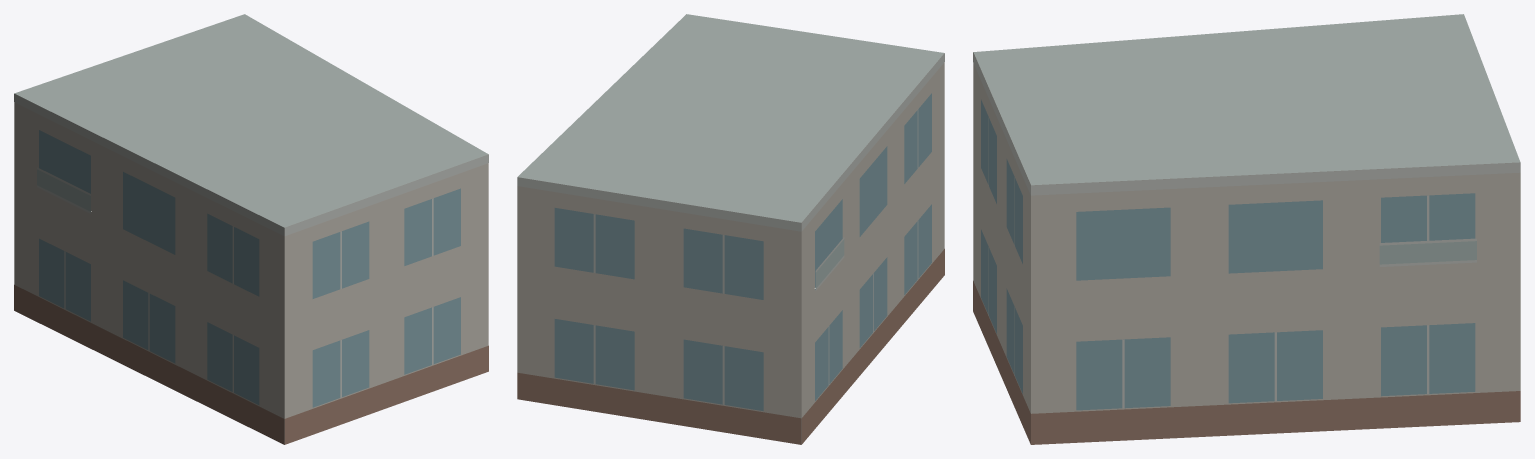
Rendered from survey-upis-32498221.glb.
The picture shows the model from 3 angles, left to right: view 1: azimuth 30°, elevation 25°; view 2: azimuth 150°, elevation 25°; view 3: azimuth 270°, elevation 25°; orthographic projection. The views are drawn at different scales.
Parts seen in each view (by area): view 1: survey-upis-32498221.tmp; view 2: survey-upis-32498221.tmp; view 3: survey-upis-32498221.tmp.
Part boxes in pixels (x1=…): survey-upis-32498221.tmp: x1=14, y1=14, x2=488, y2=444; survey-upis-32498221.tmp: x1=517, y1=14, x2=944, y2=444; survey-upis-32498221.tmp: x1=973, y1=14, x2=1520, y2=444.
Size of the model in its own units: 8.64 by 6.1 by 11.67.
